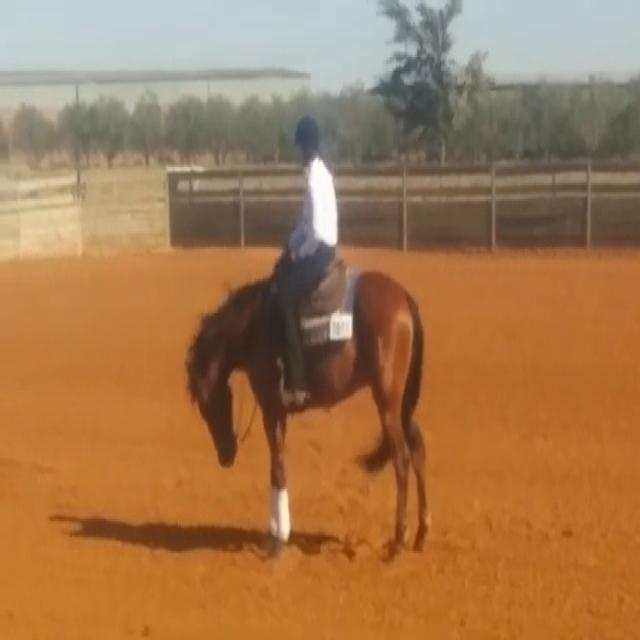horse: (183, 256, 433, 560)
